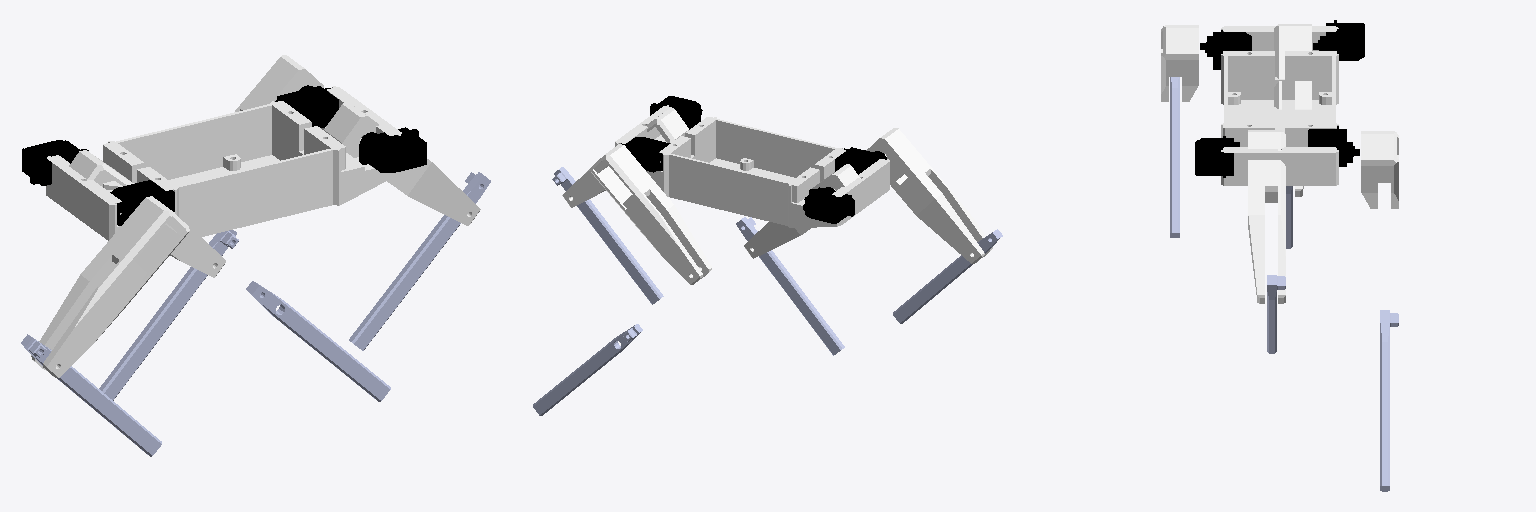
The robot description file, URDF, robot "spot_micro_urdf":
<?xml version="1.0" encoding="utf-8"?>
<!-- This URDF was automatically created by SolidWorks to URDF Exporter! Originally created by [author] ([email redacted]) 
     Commit Version: 1.6.0-4-g7f85cfe  Build Version: 1.6.7995.38578
     For more information, please see http://wiki.ros.org/sw_urdf_exporter -->
<robot
  name="spot_micro_urdf">
  <link
    name="base_link">
    <inertial>
      <origin
        xyz="-0.00082408 -0.0019325 -0.00012953"
        rpy="0 0 0" />
      <mass
        value="0.1202" />
      <inertia
        ixx="5.2649E-05"
        ixy="-6.1394E-08"
        ixz="2.5669E-10"
        iyy="0.00040441"
        iyz="3.7425E-11"
        izz="0.00036598" />
    </inertial>
    <visual>
      <origin
        xyz="0 0 0"
        rpy="0 0 0" />
      <geometry>
        <mesh
          filename="package://spot_micro_urdf/meshes/base_link.STL" />
      </geometry>
      <material
        name="">
        <color
          rgba="1 1 1 1" />
      </material>
    </visual>
    <collision>
      <origin
        xyz="0 0 0"
        rpy="0 0 0" />
      <geometry>
        <mesh
          filename="package://spot_micro_urdf/meshes/base_link.STL" />
      </geometry>
    </collision>
  </link>
  <link
    name="front_left">
    <inertial>
      <origin
        xyz="0.0098399 -0.035165 -0.074554"
        rpy="0 0 0" />
      <mass
        value="0.5276" />
      <inertia
        ixx="0.0020559"
        ixy="2.7802E-05"
        ixz="0.00014013"
        iyy="0.0017146"
        iyz="-3.7604E-05"
        izz="0.00081558" />
    </inertial>
    <visual>
      <origin
        xyz="0 0 0"
        rpy="0 0 0" />
      <geometry>
        <mesh
          filename="package://spot_micro_urdf/meshes/front_left.STL" />
      </geometry>
      <material
        name="">
        <color
          rgba="0 0 0 1" />
      </material>
    </visual>
    <collision>
      <origin
        xyz="0 0 0"
        rpy="0 0 0" />
      <geometry>
        <mesh
          filename="package://spot_micro_urdf/meshes/front_left.STL" />
      </geometry>
    </collision>
  </link>
  <joint
    name="front_left_joint"
    type="fixed">
    <origin
      xyz="0.066713 0.03056 0.0094108"
      rpy="0 1.5708 0" />
    <parent
      link="base_link" />
    <child
      link="front_left" />
    <axis
      xyz="0 0 0" />
  </joint>
  <link
    name="front_left_thigh">
    <inertial>
      <origin
        xyz="1.1153E-08 -0.031603 0.0092036"
        rpy="0 0 0" />
      <mass
        value="0.022922" />
      <inertia
        ixx="1.5572E-05"
        ixy="1.308E-11"
        ixz="-2.1437E-12"
        iyy="1.627E-06"
        iyz="3.9736E-07"
        izz="1.5478E-05" />
    </inertial>
    <visual>
      <origin
        xyz="0 0 0"
        rpy="0 0 0" />
      <geometry>
        <mesh
          filename="package://spot_micro_urdf/meshes/front_left_thigh.STL" />
      </geometry>
      <material
        name="">
        <color
          rgba="1 1 1 1" />
      </material>
    </visual>
    <collision>
      <origin
        xyz="0 0 0"
        rpy="0 0 0" />
      <geometry>
        <mesh
          filename="package://spot_micro_urdf/meshes/front_left_thigh.STL" />
      </geometry>
    </collision>
  </link>
  <joint
    name="front_left_shoulder_joint"
    type="revolute">
    <origin
      xyz="0 0.013411 0"
      rpy="1.5708 0.73804 3.1416" />
    <parent
      link="front_left" />
    <child
      link="front_left_thigh" />
    <axis
      xyz="0 0 0" />
    <limit
      lower="0"
      upper="0"
      effort="0"
      velocity="0" />
  </joint>
  <link
    name="front_left_calf">
    <inertial>
      <origin
        xyz="0.033216 0 0.0026355"
        rpy="0 0 0" />
      <mass
        value="0.0048196" />
      <inertia
        ixx="4.1807E-08"
        ixy="-1.4649E-21"
        ixz="3.0842E-08"
        iyy="4.0529E-06"
        iyz="-6.4519E-24"
        izz="4.0694E-06" />
    </inertial>
    <visual>
      <origin
        xyz="0 0 0"
        rpy="0 0 0" />
      <geometry>
        <mesh
          filename="package://spot_micro_urdf/meshes/front_left_calf.STL" />
      </geometry>
      <material
        name="">
        <color
          rgba="0.79608 0.82353 0.93725 1" />
      </material>
    </visual>
    <collision>
      <origin
        xyz="0 0 0"
        rpy="0 0 0" />
      <geometry>
        <mesh
          filename="package://spot_micro_urdf/meshes/front_left_calf.STL" />
      </geometry>
    </collision>
  </link>
  <joint
    name="front_left_knee_joint"
    type="revolute">
    <origin
      xyz="0 -0.0815 0.01025"
      rpy="0 0 3.0986" />
    <parent
      link="front_left_thigh" />
    <child
      link="front_left_calf" />
    <axis
      xyz="0 0 0" />
    <limit
      lower="0"
      upper="0"
      effort="0"
      velocity="0" />
  </joint>
  <link
    name="front_left_foot">
    <inertial>
      <origin
        xyz="0.033216 0 0.0026355"
        rpy="0 0 0" />
      <mass
        value="0.0048196" />
      <inertia
        ixx="4.1807E-08"
        ixy="-1.4649E-21"
        ixz="3.0842E-08"
        iyy="4.0529E-06"
        iyz="-8.1063E-24"
        izz="4.0694E-06" />
    </inertial>
    <visual>
      <origin
        xyz="0 0 0"
        rpy="0 0 0" />
      <geometry>
        <mesh
          filename="package://spot_micro_urdf/meshes/front_left_foot.STL" />
      </geometry>
      <material
        name="">
        <color
          rgba="0.79608 0.82353 0.93725 1" />
      </material>
    </visual>
    <collision>
      <origin
        xyz="0 0 0"
        rpy="0 0 0" />
      <geometry>
        <mesh
          filename="package://spot_micro_urdf/meshes/front_left_foot.STL" />
      </geometry>
    </collision>
  </link>
  <joint
    name="front_left_foot_joint"
    type="fixed">
    <origin
      xyz="0.0825 0.0045 0"
      rpy="0 0 0" />
    <parent
      link="front_left_calf" />
    <child
      link="front_left_foot" />
    <axis
      xyz="0 0 0" />
  </joint>
  <link
    name="front_right">
    <inertial>
      <origin
        xyz="-0.0098399 -0.025695 -0.074554"
        rpy="0 0 0" />
      <mass
        value="0.5276" />
      <inertia
        ixx="0.0020559"
        ixy="2.7802E-05"
        ixz="-0.00014013"
        iyy="0.0017146"
        iyz="3.7604E-05"
        izz="0.00081558" />
    </inertial>
    <visual>
      <origin
        xyz="0 0 0"
        rpy="0 0 0" />
      <geometry>
        <mesh
          filename="package://spot_micro_urdf/meshes/front_right.STL" />
      </geometry>
      <material
        name="">
        <color
          rgba="0 0 0 1" />
      </material>
    </visual>
    <collision>
      <origin
        xyz="0 0 0"
        rpy="0 0 0" />
      <geometry>
        <mesh
          filename="package://spot_micro_urdf/meshes/front_right.STL" />
      </geometry>
    </collision>
  </link>
  <joint
    name="front_right_joint"
    type="fixed">
    <origin
      xyz="0.066713352258944 -0.0303004996531292 0.00941083516771894"
      rpy="0 -1.5707963267949 0" />
    <parent
      link="base_link" />
    <child
      link="front_right" />
    <axis
      xyz="0 0 0" />
  </joint>
  <link
    name="front_right_thigh">
    <inertial>
      <origin
        xyz="1.102E-08 -0.031603 0.0092036"
        rpy="0 0 0" />
      <mass
        value="0.022922" />
      <inertia
        ixx="1.5572E-05"
        ixy="1.299E-11"
        ixz="-2.1489E-12"
        iyy="1.627E-06"
        iyz="3.9736E-07"
        izz="1.5478E-05" />
    </inertial>
    <visual>
      <origin
        xyz="0 0 0"
        rpy="0 0 0" />
      <geometry>
        <mesh
          filename="package://spot_micro_urdf/meshes/front_right_thigh.STL" />
      </geometry>
      <material
        name="">
        <color
          rgba="1 1 1 1" />
      </material>
    </visual>
    <collision>
      <origin
        xyz="0 0 0"
        rpy="0 0 0" />
      <geometry>
        <mesh
          filename="package://spot_micro_urdf/meshes/front_right_thigh.STL" />
      </geometry>
    </collision>
  </link>
  <joint
    name="front_right_shoulder_joint"
    type="revolute">
    <origin
      xyz="0 0.013411 0"
      rpy="1.5708 -0.73995 3.1416" />
    <parent
      link="front_right" />
    <child
      link="front_right_thigh" />
    <axis
      xyz="0 0 0" />
    <limit
      lower="0"
      upper="0"
      effort="0"
      velocity="0" />
  </joint>
  <link
    name="front_right_calf">
    <inertial>
      <origin
        xyz="0.033216 -1.0408E-17 0.0026355"
        rpy="0 0 0" />
      <mass
        value="0.0048196" />
      <inertia
        ixx="4.1807E-08"
        ixy="-4.2683E-22"
        ixz="3.0842E-08"
        iyy="4.0529E-06"
        iyz="-6.9483E-23"
        izz="4.0694E-06" />
    </inertial>
    <visual>
      <origin
        xyz="0 0 0"
        rpy="0 0 0" />
      <geometry>
        <mesh
          filename="package://spot_micro_urdf/meshes/front_right_calf.STL" />
      </geometry>
      <material
        name="">
        <color
          rgba="0.79608 0.82353 0.93725 1" />
      </material>
    </visual>
    <collision>
      <origin
        xyz="0 0 0"
        rpy="0 0 0" />
      <geometry>
        <mesh
          filename="package://spot_micro_urdf/meshes/front_right_calf.STL" />
      </geometry>
    </collision>
  </link>
  <joint
    name="front_right_knee_joint"
    type="revolute">
    <origin
      xyz="0 -0.0815 0.01025"
      rpy="0 0 0.036854" />
    <parent
      link="front_right_thigh" />
    <child
      link="front_right_calf" />
    <axis
      xyz="0 0 0" />
    <limit
      lower="0"
      upper="0"
      effort="0"
      velocity="0" />
  </joint>
  <link
    name="front_right_foot">
    <inertial>
      <origin
        xyz="0.033216 -2.4286E-17 0.0026355"
        rpy="0 0 0" />
      <mass
        value="0.0048196" />
      <inertia
        ixx="4.1807E-08"
        ixy="-7.8913E-22"
        ixz="3.0842E-08"
        iyy="4.0529E-06"
        iyz="-7.2792E-23"
        izz="4.0694E-06" />
    </inertial>
    <visual>
      <origin
        xyz="0 0 0"
        rpy="0 0 0" />
      <geometry>
        <mesh
          filename="package://spot_micro_urdf/meshes/front_right_foot.STL" />
      </geometry>
      <material
        name="">
        <color
          rgba="0.79608 0.82353 0.93725 1" />
      </material>
    </visual>
    <collision>
      <origin
        xyz="0 0 0"
        rpy="0 0 0" />
      <geometry>
        <mesh
          filename="package://spot_micro_urdf/meshes/front_right_foot.STL" />
      </geometry>
    </collision>
  </link>
  <joint
    name="front_right_foot_joint"
    type="fixed">
    <origin
      xyz="0.0825 -0.0045 0"
      rpy="0 0 0" />
    <parent
      link="front_right_calf" />
    <child
      link="front_right_foot" />
    <axis
      xyz="0 0 0" />
  </joint>
  <link
    name="back_left">
    <inertial>
      <origin
        xyz="-0.00983991079994292 -0.0351645155542096 -0.0603637765831304"
        rpy="0 0 0" />
      <mass
        value="0.527599038136683" />
      <inertia
        ixx="0.00205587025679296"
        ixy="-2.78017697851429E-05"
        ixz="0.000140125524164162"
        iyy="0.00171457425703914"
        iyz="3.76038768185095E-05"
        izz="0.000815577186189188" />
    </inertial>
    <visual>
      <origin
        xyz="0 0 0"
        rpy="0 0 0" />
      <geometry>
        <mesh
          filename="package://spot_micro_urdf/meshes/back_left.STL" />
      </geometry>
      <material
        name="">
        <color
          rgba="0 0 0 1" />
      </material>
    </visual>
    <collision>
      <origin
        xyz="0 0 0"
        rpy="0 0 0" />
      <geometry>
        <mesh
          filename="package://spot_micro_urdf/meshes/back_left.STL" />
      </geometry>
    </collision>
  </link>
  <joint
    name="back_left_joint"
    type="fixed">
    <origin
      xyz="-0.0682047477410559 0.0305595003468727 0.00941083516771887"
      rpy="3.14159265358979 -1.5707963267949 0" />
    <parent
      link="base_link" />
    <child
      link="back_left" />
    <axis
      xyz="0 0 0" />
  </joint>
  <link
    name="back_left_thigh">
    <inertial>
      <origin
        xyz="1.11620484521957E-08 -0.031602966790318 0.009203583306911"
        rpy="0 0 0" />
      <mass
        value="0.0229224082530612" />
      <inertia
        ixx="1.55724920493925E-05"
        ixy="1.30867178502939E-11"
        ixz="-2.14331805792514E-12"
        iyy="1.626980980442E-06"
        iyz="3.97358803925911E-07"
        izz="1.54775532334603E-05" />
    </inertial>
    <visual>
      <origin
        xyz="0 0 0"
        rpy="0 0 0" />
      <geometry>
        <mesh
          filename="package://spot_micro_urdf/meshes/back_left_thigh.STL" />
      </geometry>
      <material
        name="">
        <color
          rgba="1 1 1 1" />
      </material>
    </visual>
    <collision>
      <origin
        xyz="0 0 0"
        rpy="0 0 0" />
      <geometry>
        <mesh
          filename="package://spot_micro_urdf/meshes/back_left_thigh.STL" />
      </geometry>
    </collision>
  </link>
  <joint
    name="back_left_shoulder_joint"
    type="revolute">
    <origin
      xyz="0 0.013411 0"
      rpy="-1.5708 -0.73125 0" />
    <parent
      link="back_left" />
    <child
      link="back_left_thigh" />
    <axis
      xyz="0 0 0" />
    <limit
      lower="0"
      upper="0"
      effort="0"
      velocity="0" />
  </joint>
  <link
    name="back_left_calf">
    <inertial>
      <origin
        xyz="0.0332157595947743 -6.93889390390723E-17 0.00263553758269552"
        rpy="0 0 0" />
      <mass
        value="0.00481963739684099" />
      <inertia
        ixx="4.18065599214046E-08"
        ixy="3.46247260056036E-21"
        ixz="3.08424550600374E-08"
        iyy="4.05286937066263E-06"
        iyz="-1.35659316803397E-23"
        izz="4.06944336741809E-06" />
    </inertial>
    <visual>
      <origin
        xyz="0 0 0"
        rpy="0 0 0" />
      <geometry>
        <mesh
          filename="package://spot_micro_urdf/meshes/back_left_calf.STL" />
      </geometry>
      <material
        name="">
        <color
          rgba="0.796078431372549 0.823529411764706 0.937254901960784 1" />
      </material>
    </visual>
    <collision>
      <origin
        xyz="0 0 0"
        rpy="0 0 0" />
      <geometry>
        <mesh
          filename="package://spot_micro_urdf/meshes/back_left_calf.STL" />
      </geometry>
    </collision>
  </link>
  <joint
    name="back_left_knee_joint"
    type="revolute">
    <origin
      xyz="0 -0.0815 0.01025"
      rpy="0 0 3.1052" />
    <parent
      link="back_left_thigh" />
    <child
      link="back_left_calf" />
    <axis
      xyz="0 0 0" />
    <limit
      lower="0"
      upper="0"
      effort="0"
      velocity="0" />
  </joint>
  <link
    name="back_left_foot">
    <inertial>
      <origin
        xyz="0.0332157595947743 -5.55111512312578E-17 0.00263553758269552"
        rpy="0 0 0" />
      <mass
        value="0.00481963739684099" />
      <inertia
        ixx="4.18065599214041E-08"
        ixy="3.3913350678808E-21"
        ixz="3.08424550600375E-08"
        iyy="4.05286937066263E-06"
        iyz="-2.01833765807643E-23"
        izz="4.06944336741809E-06" />
    </inertial>
    <visual>
      <origin
        xyz="0 0 0"
        rpy="0 0 0" />
      <geometry>
        <mesh
          filename="package://spot_micro_urdf/meshes/back_left_foot.STL" />
      </geometry>
      <material
        name="">
        <color
          rgba="0.796078431372549 0.823529411764706 0.937254901960784 1" />
      </material>
    </visual>
    <collision>
      <origin
        xyz="0 0 0"
        rpy="0 0 0" />
      <geometry>
        <mesh
          filename="package://spot_micro_urdf/meshes/back_left_foot.STL" />
      </geometry>
    </collision>
  </link>
  <joint
    name="back_left_foot_joint"
    type="fixed">
    <origin
      xyz="0.0825 0.0045 0"
      rpy="0 0 0" />
    <parent
      link="back_left_calf" />
    <child
      link="back_left_foot" />
    <axis
      xyz="0 0 0" />
  </joint>
  <link
    name="back_right">
    <inertial>
      <origin
        xyz="0.00983991079994289 -0.0256954844457904 -0.0603637765831304"
        rpy="0 0 0" />
      <mass
        value="0.527599038136683" />
      <inertia
        ixx="0.00205587025679296"
        ixy="-2.78017697851429E-05"
        ixz="-0.000140125524164162"
        iyy="0.00171457425703914"
        iyz="-3.76038768185095E-05"
        izz="0.000815577186189188" />
    </inertial>
    <visual>
      <origin
        xyz="0 0 0"
        rpy="0 0 0" />
      <geometry>
        <mesh
          filename="package://spot_micro_urdf/meshes/back_right.STL" />
      </geometry>
      <material
        name="">
        <color
          rgba="0 0 0 1" />
      </material>
    </visual>
    <collision>
      <origin
        xyz="0 0 0"
        rpy="0 0 0" />
      <geometry>
        <mesh
          filename="package://spot_micro_urdf/meshes/back_right.STL" />
      </geometry>
    </collision>
  </link>
  <joint
    name="back_right_joint"
    type="fixed">
    <origin
      xyz="-0.0682047477410559 -0.0303004996531274 0.00941083516771885"
      rpy="3.14159265358979 1.5707963267949 0" />
    <parent
      link="base_link" />
    <child
      link="back_right" />
    <axis
      xyz="0 0 0" />
  </joint>
  <link
    name="back_right_thigh">
    <inertial>
      <origin
        xyz="1.10059232491522E-08 -0.0316029667389578 0.00920358331034415"
        rpy="0 0 0" />
      <mass
        value="0.02292240821336" />
      <inertia
        ixx="1.55724920110539E-05"
        ixy="1.29803988550251E-11"
        ixz="-2.14940398520425E-12"
        iyy="1.62698097700527E-06"
        iyz="3.97358806581853E-07"
        izz="1.54775531921418E-05" />
    </inertial>
    <visual>
      <origin
        xyz="0 0 0"
        rpy="0 0 0" />
      <geometry>
        <mesh
          filename="package://spot_micro_urdf/meshes/back_right_thigh.STL" />
      </geometry>
      <material
        name="">
        <color
          rgba="1 1 1 1" />
      </material>
    </visual>
    <collision>
      <origin
        xyz="0 0 0"
        rpy="0 0 0" />
      <geometry>
        <mesh
          filename="package://spot_micro_urdf/meshes/back_right_thigh.STL" />
      </geometry>
    </collision>
  </link>
  <joint
    name="back_right_shoulder_joint"
    type="revolute">
    <origin
      xyz="0 0.013411 0"
      rpy="-1.5708 0.73101 0" />
    <parent
      link="back_right" />
    <child
      link="back_right_thigh" />
    <axis
      xyz="0 0 0" />
    <limit
      lower="0"
      upper="0"
      effort="0"
      velocity="0" />
  </joint>
  <link
    name="back_right_calf">
    <inertial>
      <origin
        xyz="0.0332157595947743 -2.77555756156289E-17 0.00263553758269555"
        rpy="0 0 0" />
      <mass
        value="0.00481963739684099" />
      <inertia
        ixx="4.18065599214047E-08"
        ixy="-8.15600083977285E-22"
        ixz="3.08424550600334E-08"
        iyy="4.05286937066263E-06"
        iyz="-4.96308367531817E-23"
        izz="4.06944336741808E-06" />
    </inertial>
    <visual>
      <origin
        xyz="0 0 0"
        rpy="0 0 0" />
      <geometry>
        <mesh
          filename="package://spot_micro_urdf/meshes/back_right_calf.STL" />
      </geometry>
      <material
        name="">
        <color
          rgba="0.796078431372549 0.823529411764706 0.937254901960784 1" />
      </material>
    </visual>
    <collision>
      <origin
        xyz="0 0 0"
        rpy="0 0 0" />
      <geometry>
        <mesh
          filename="package://spot_micro_urdf/meshes/back_right_calf.STL" />
      </geometry>
    </collision>
  </link>
  <joint
    name="back_right_knee_joint"
    type="revolute">
    <origin
      xyz="0 -0.0815 0.01025"
      rpy="0 0 0.0365" />
    <parent
      link="back_right_thigh" />
    <child
      link="back_right_calf" />
    <axis
      xyz="0 0 0" />
    <limit
      lower="0"
      upper="0"
      effort="0"
      velocity="0" />
  </joint>
  <link
    name="back_right_foot">
    <inertial>
      <origin
        xyz="0.0332157595947743 -2.77555756156289E-17 0.00263553758269555"
        rpy="0 0 0" />
      <mass
        value="0.00481963739684099" />
      <inertia
        ixx="4.18065599214047E-08"
        ixy="-8.15600083977285E-22"
        ixz="3.08424550600334E-08"
        iyy="4.05286937066263E-06"
        iyz="-4.96308367531817E-23"
        izz="4.06944336741808E-06" />
    </inertial>
    <visual>
      <origin
        xyz="0 0 0"
        rpy="0 0 0" />
      <geometry>
        <mesh
          filename="package://spot_micro_urdf/meshes/back_right_foot.STL" />
      </geometry>
      <material
        name="">
        <color
          rgba="0.796078431372549 0.823529411764706 0.937254901960784 1" />
      </material>
    </visual>
    <collision>
      <origin
        xyz="0 0 0"
        rpy="0 0 0" />
      <geometry>
        <mesh
          filename="package://spot_micro_urdf/meshes/back_right_foot.STL" />
      </geometry>
    </collision>
  </link>
  <joint
    name="back_right_foot_joint"
    type="fixed">
    <origin
      xyz="0.0825 -0.0045 0"
      rpy="0 0 0" />
    <parent
      link="back_right_calf" />
    <child
      link="back_right_foot" />
    <axis
      xyz="0 0 0" />
  </joint>
</robot>

--- What the picture shows (computed from the rendered views, not written in the file) ---
3 views of the same robot in one strip: view 1: azimuth 30°, elevation 25°; view 2: azimuth 150°, elevation 25°; view 3: azimuth 270°, elevation 25° (orthographic).
Robot: spot_micro_urdf — 17 links, 16 joints (8 revolute, 8 fixed); root link base_link; default pose: all joints at 0.
Links seen in each view (by area): view 1: base_link, back_right_thigh, front_right_thigh, front_right_calf, back_left_calf, front_left_foot, back_right_calf, front_right, back_left_thigh, front_left_thigh, back_left, front_left (+1 smaller); view 2: base_link, front_left_thigh, back_right_thigh, front_right_calf, back_left_calf, front_left_foot, back_left_thigh, back_right_calf, front_right_thigh, back_left, front_left, front_right (+1 smaller); view 3: base_link, front_right_thigh, front_left_thigh, back_right_thigh, back_left_thigh, front_left_foot, back_right_calf, front_right, back_left, back_right, front_left, front_right_calf.
Boxes of the visible links, x1,y1,x2,y2 form: base_link: [46, 86, 401, 241]; back_right_thigh: [31, 196, 189, 377]; front_right_thigh: [324, 102, 480, 225]; front_right_calf: [349, 172, 490, 350]; back_left_calf: [99, 230, 238, 400]; front_left_foot: [246, 281, 390, 401]; back_right_calf: [21, 334, 161, 456]; front_right: [359, 127, 426, 172]; back_left_thigh: [69, 150, 225, 277]; front_left_thigh: [235, 55, 323, 111]; back_left: [22, 140, 88, 185]; front_left: [275, 85, 338, 127]; base_link: [615, 105, 889, 227]; front_left_thigh: [590, 144, 711, 284]; back_right_thigh: [866, 128, 992, 263]; front_right_calf: [552, 167, 663, 304]; back_left_calf: [736, 217, 844, 355]; front_left_foot: [533, 324, 642, 415]; back_left_thigh: [744, 164, 860, 258]; back_right_calf: [893, 229, 1002, 323]; front_right_thigh: [562, 108, 688, 207]; back_left: [803, 187, 854, 223]; front_left: [621, 137, 669, 172]; front_right: [650, 96, 702, 129]; base_link: [1221, 26, 1338, 185]; front_right_thigh: [1248, 130, 1285, 303]; front_left_thigh: [1361, 131, 1398, 208]; back_right_thigh: [1161, 25, 1198, 101]; back_left_thigh: [1274, 24, 1311, 196]; front_left_foot: [1380, 310, 1398, 491]; back_right_calf: [1170, 77, 1179, 237]; front_right: [1195, 136, 1239, 177]; back_left: [1313, 20, 1364, 60]; back_right: [1200, 30, 1251, 69]; front_left: [1308, 126, 1359, 166]; front_right_calf: [1267, 275, 1285, 353].
Bounding box of the posed robot: 0.2862 × 0.1282 × 0.1908 m (x, y, z).
13 mesh visuals loaded from 17 distinct referenced files (13 binary STL); not drawn: 4 (reference not matched to a file when rendering).